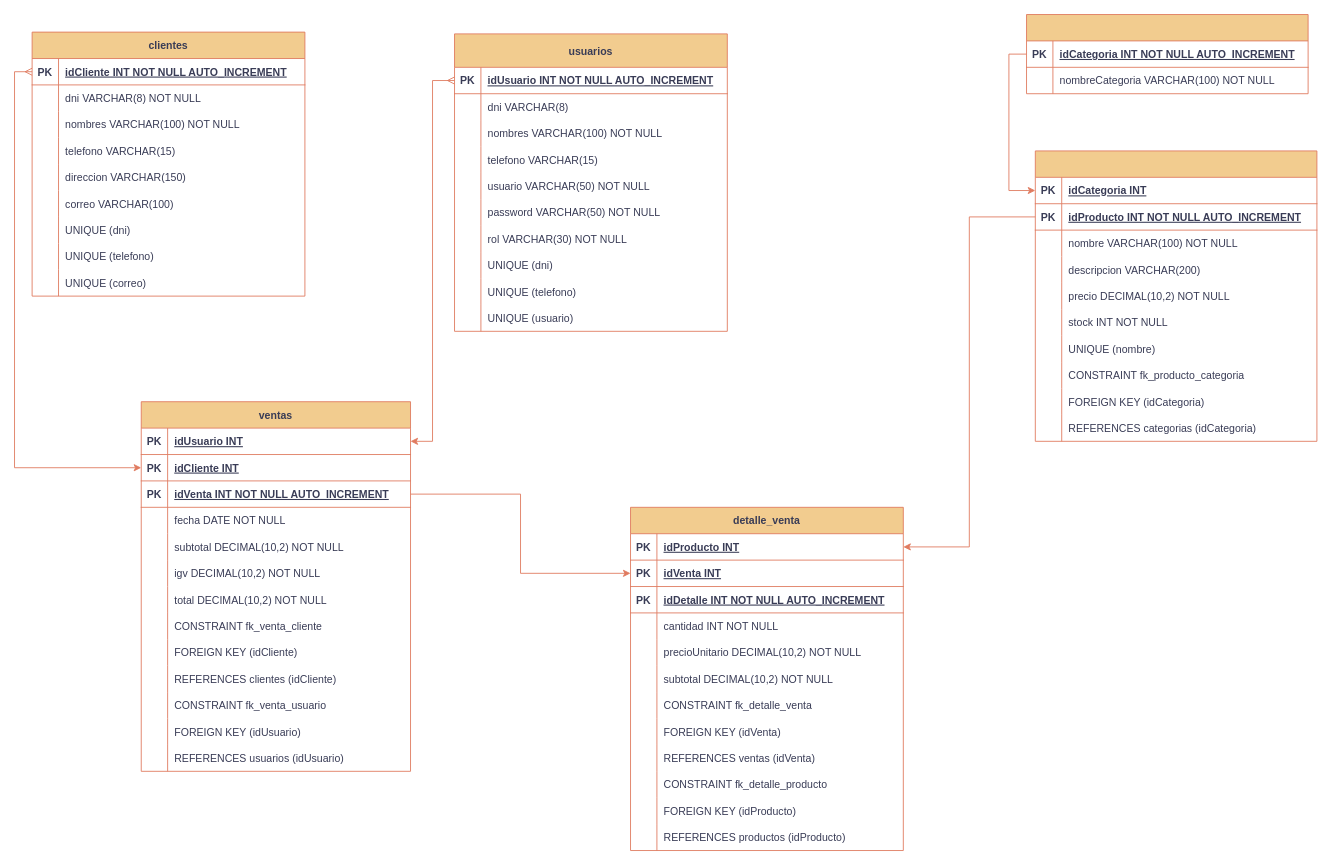
The diagram is 1331 pixels wide and 865 high, and some of its shapes have lost their labels. The shapes that lost their labels are listed below. From the top down, each one's box as (x1, y1, x2, y2) in pixels, then its label:
(1026, 14, 1308, 94): categorias
(1034, 150, 1317, 441): productos
